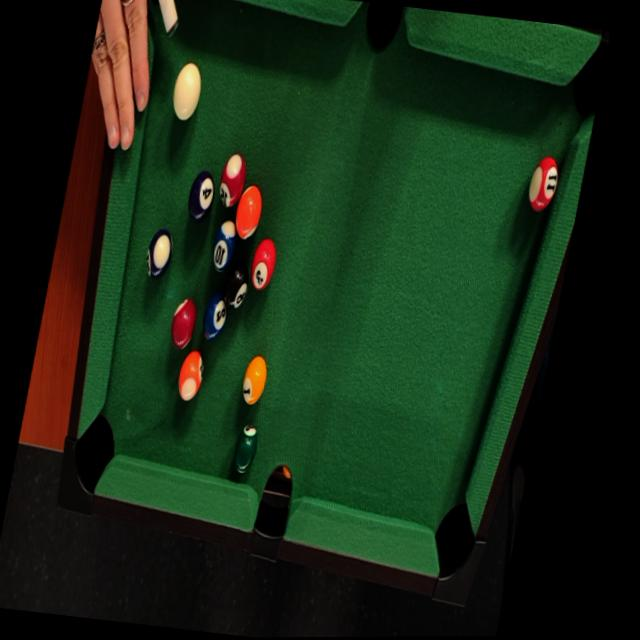cue ball: (164, 49, 212, 127)
other: (176, 163, 221, 234), (521, 149, 566, 217), (215, 249, 255, 316), (229, 177, 272, 239), (215, 144, 252, 215), (169, 342, 210, 406), (236, 348, 274, 415), (164, 285, 200, 352), (140, 222, 179, 283), (196, 282, 232, 348), (246, 231, 283, 294), (229, 415, 265, 476), (208, 216, 240, 274)
